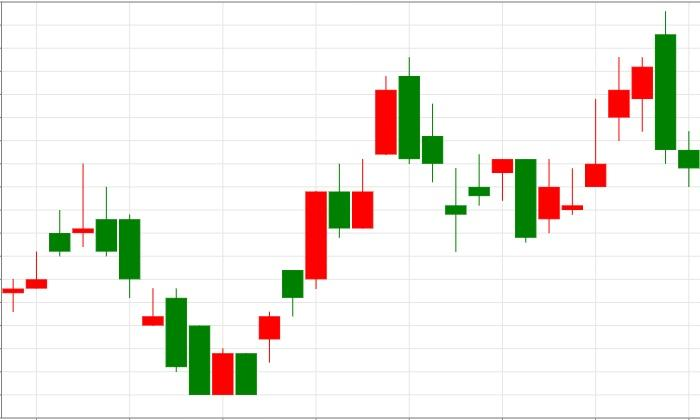bearish_engulfing_fall: (211, 57, 421, 395), (515, 11, 677, 242)
